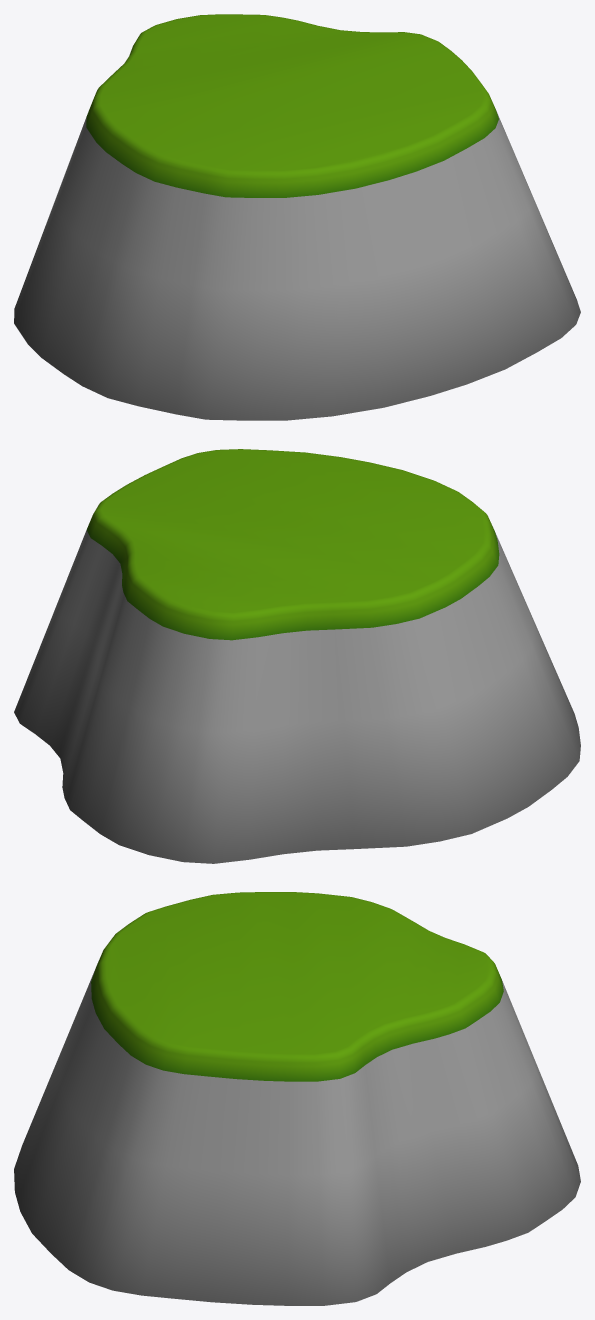
File: Mountain01.fbx
3 views of the same model, one above another, from view 1: azimuth 30°, elevation 25°; view 2: azimuth 150°, elevation 25°; view 3: azimuth 270°, elevation 25° (orthographic).
Parts seen in each view (by area): view 1: LOD0; view 2: LOD0; view 3: LOD0.
Part boxes in pixels (x1,y1,x2,y2): LOD0: (14,14,580,420); LOD0: (14,449,580,863); LOD0: (14,892,580,1305).
Size of what is drawn, in the model's own units: 902 by 904 by 375.
